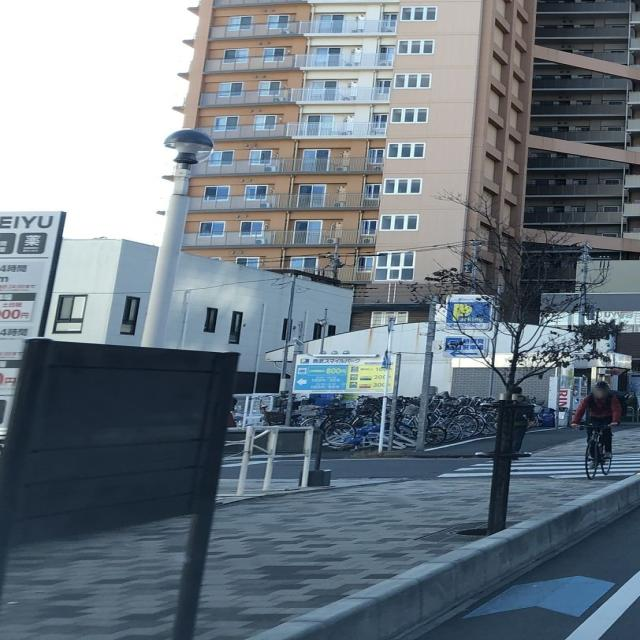dogwood: (398, 188, 632, 532)
